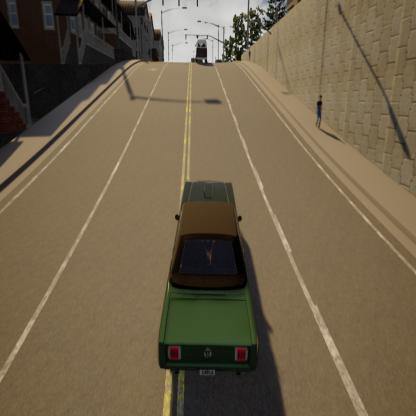Cars: (152, 175, 263, 389), (192, 36, 210, 68)
Pedestrian: (313, 92, 327, 132), (244, 44, 252, 64)
